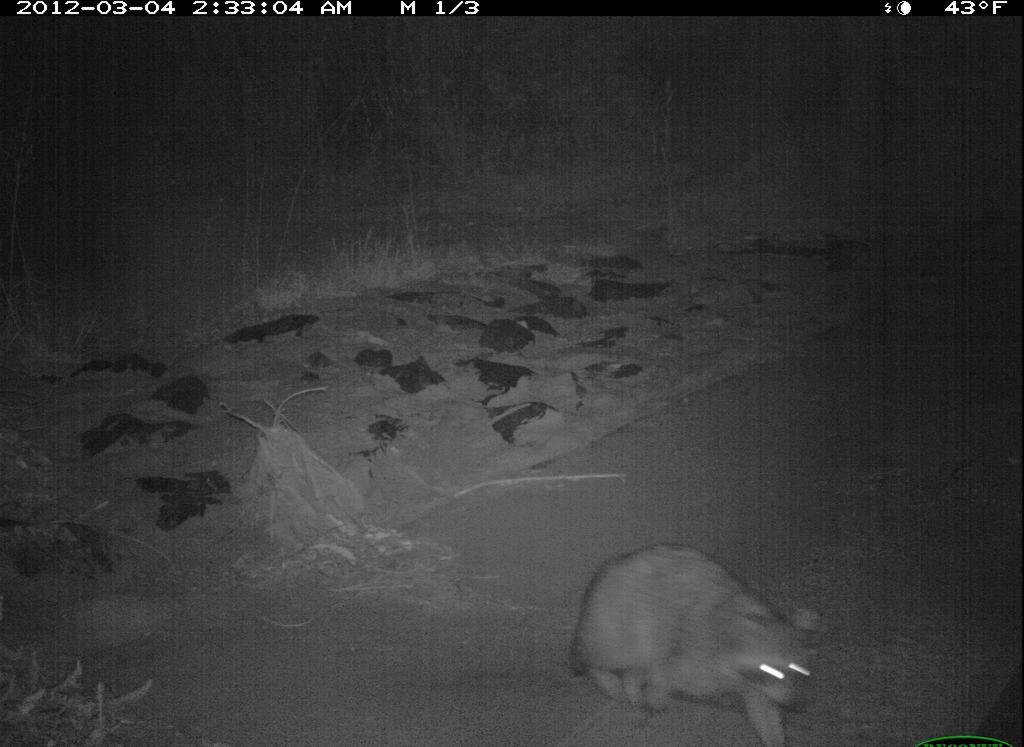raccoon: (563, 538, 825, 747)
